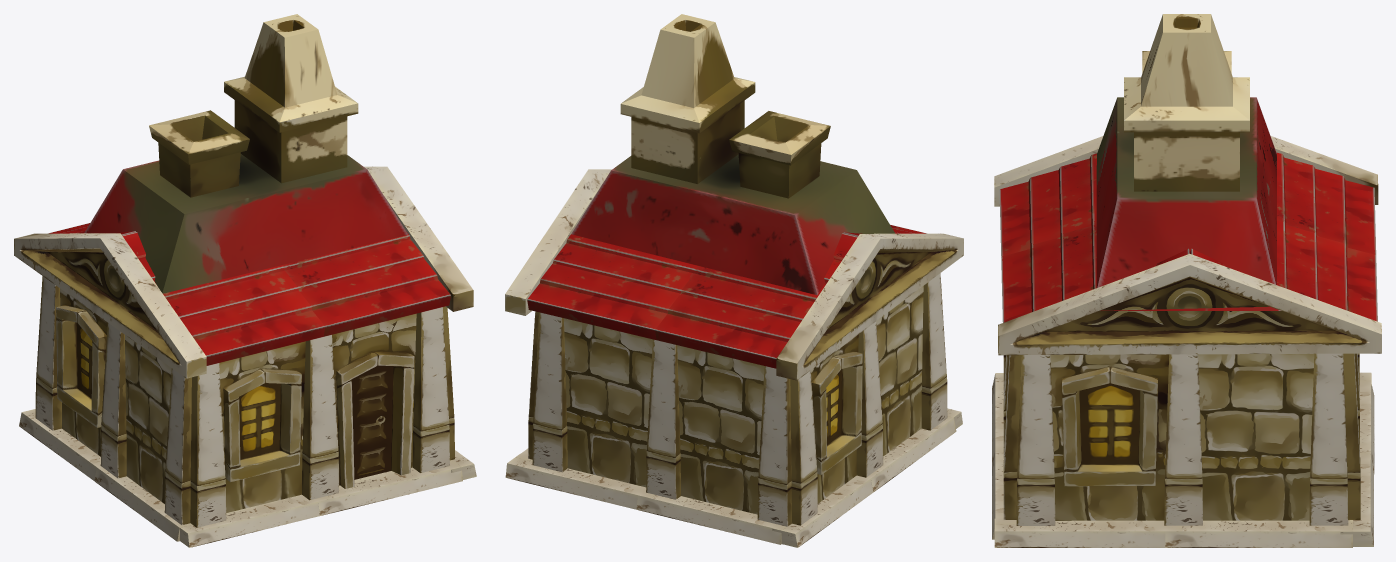
File: Rome_Village_Buildings_13.FBX
3 views of the same model, side by side, from view 1: azimuth 30°, elevation 25°; view 2: azimuth 150°, elevation 25°; view 3: azimuth 270°, elevation 25° (orthographic). The views are drawn at different scales.
Visible parts, largest first — view 1: Rome_Village_Buildings_13; view 2: Rome_Village_Buildings_13; view 3: Rome_Village_Buildings_13.
Boxes of the visible parts, x1,y1,x2,y2 form: Rome_Village_Buildings_13: [14, 14, 476, 547]; Rome_Village_Buildings_13: [505, 14, 963, 547]; Rome_Village_Buildings_13: [992, 14, 1381, 547].
Bounding box in the file's own units: 572 × 769 × 580.
